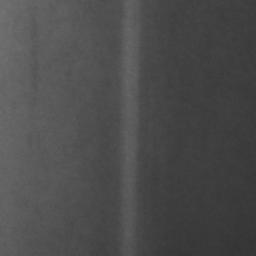Bright scratch: (119, 0, 142, 256)
